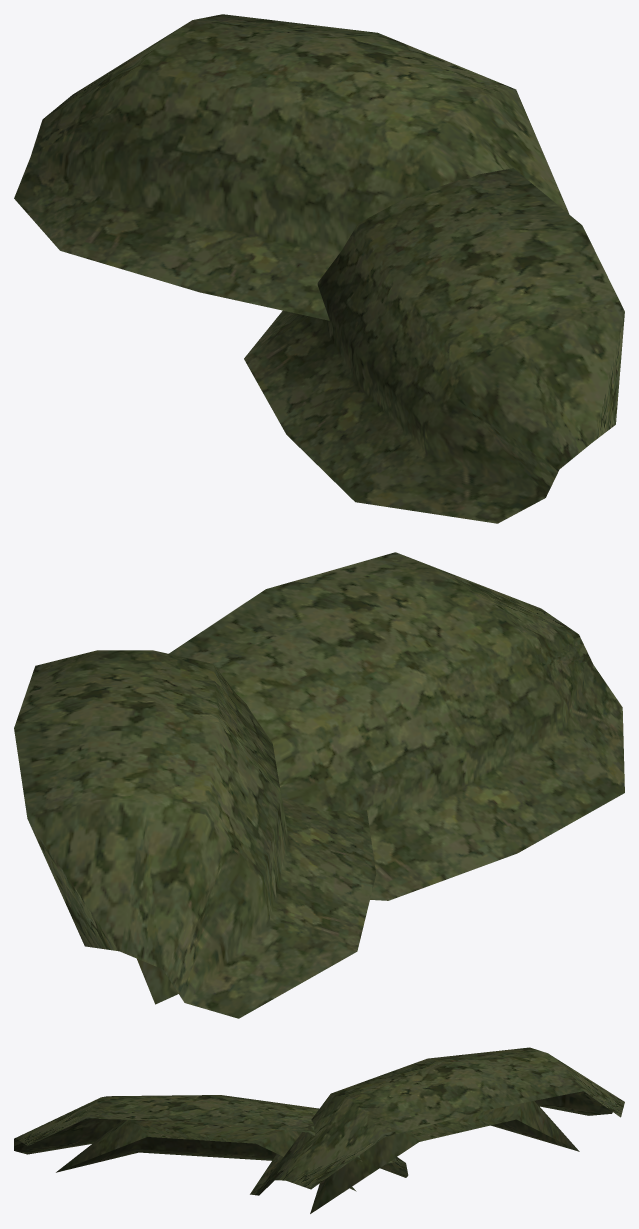
File: plants_scrub01.fbx
3 renders of one model, top to bottom at view 1: azimuth 30°, elevation 25°; view 2: azimuth 150°, elevation 25°; view 3: azimuth 270°, elevation 25°, orthographic. The views are drawn at different scales.
Visible parts, largest first — view 1: bush_clump; view 2: bush_clump; view 3: bush_clump.
Part boxes in pixels (bbox=[...]): bush_clump: bbox=[14, 14, 624, 523]; bush_clump: bbox=[14, 552, 624, 1018]; bush_clump: bbox=[14, 1047, 624, 1213].
Bounding box in the file's own units: 4.77 × 2.52 × 10.01.
